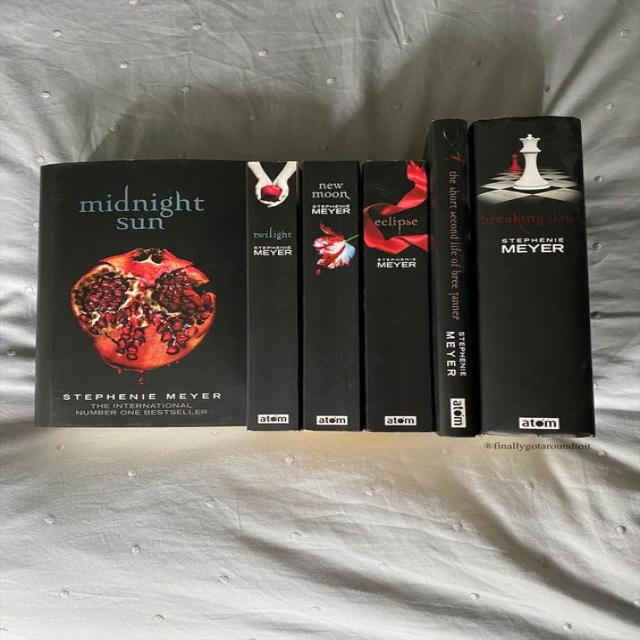book: (480, 120, 589, 436), (363, 161, 437, 432), (302, 161, 362, 431), (248, 161, 302, 429), (437, 121, 476, 437)
